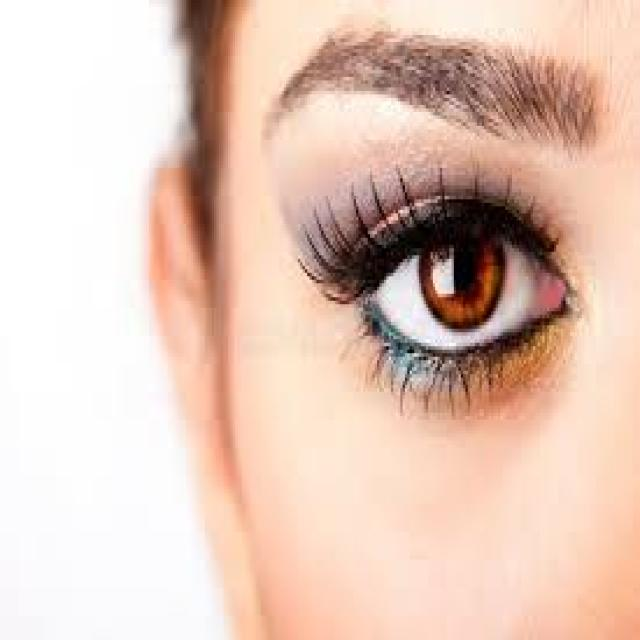no_dark_circle: (342, 361, 570, 470)
